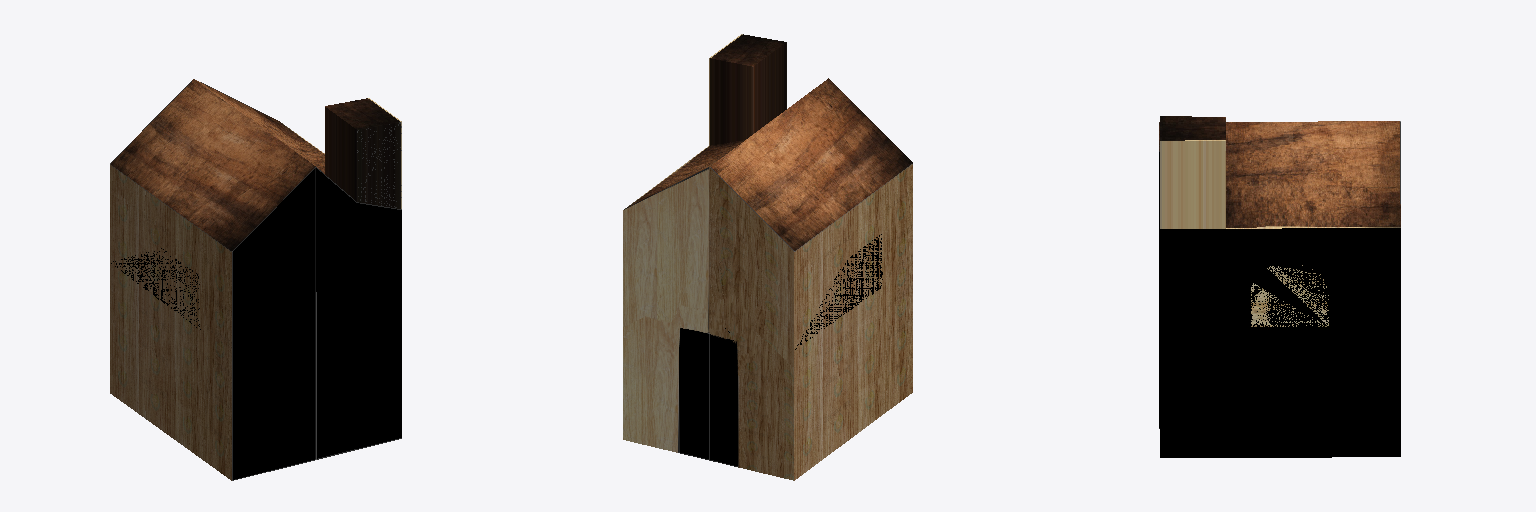
3 views of the same model, side by side, from view 1: azimuth 30°, elevation 25°; view 2: azimuth 150°, elevation 25°; view 3: azimuth 270°, elevation 25° (orthographic).
Parts seen in each view (by area): view 1: pCube1; view 2: pCube1; view 3: pCube1.
Part boxes in pixels (left/top/right/bottom): pCube1: left=110, top=79, right=401, bottom=480; pCube1: left=623, top=34, right=912, bottom=480; pCube1: left=1159, top=116, right=1400, bottom=457.
Bounding box in the file's own units: 10.14 × 17.94 × 12.35.
4 materials, 2 textured.